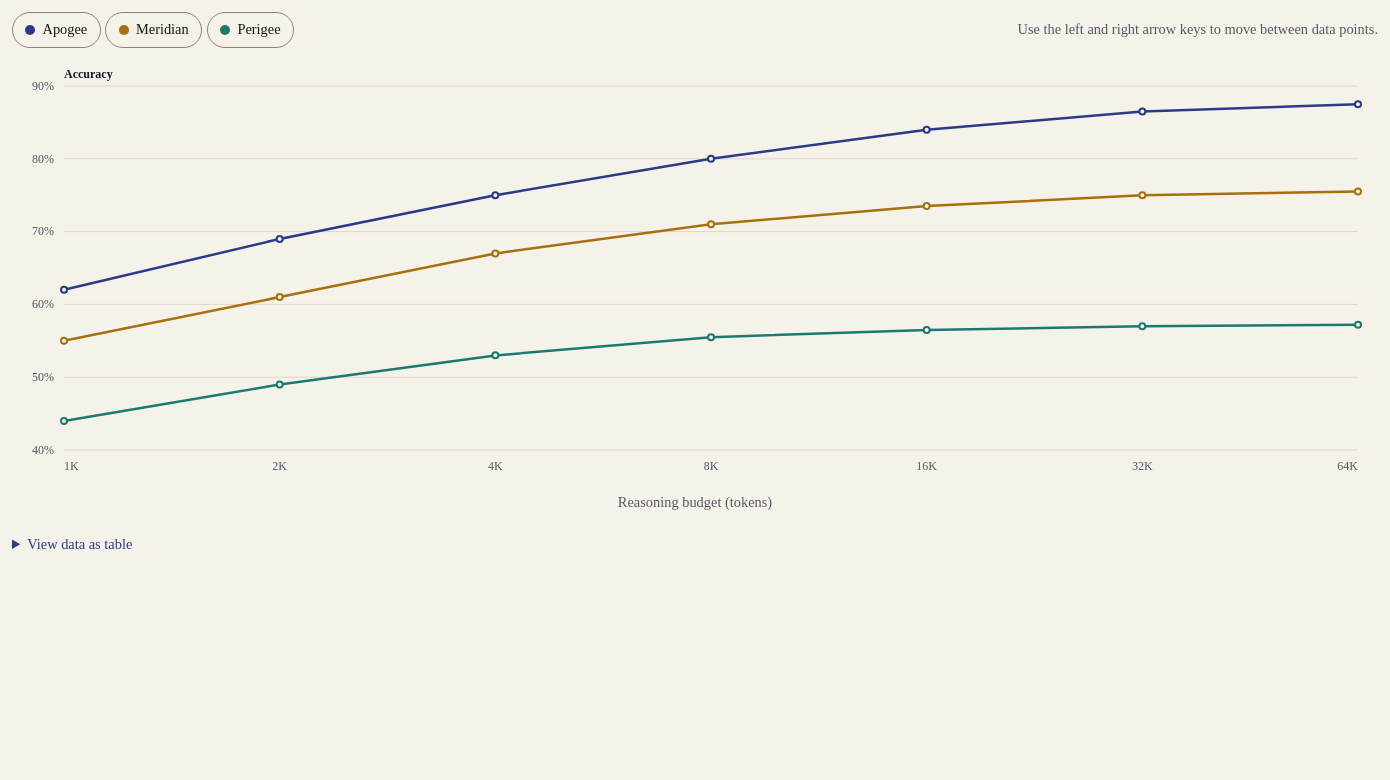
Scenario: LineChart (spec 003) › toggles series from the legend but keeps the last one visible (AC3)
This screenshot has width=1390, height=780.
Later steps or results of the test are not shown.
Click the button with aria-label "Show or hide Perigee" at coordinates (250, 30), box top-left (207, 12), bottom-right (294, 48)
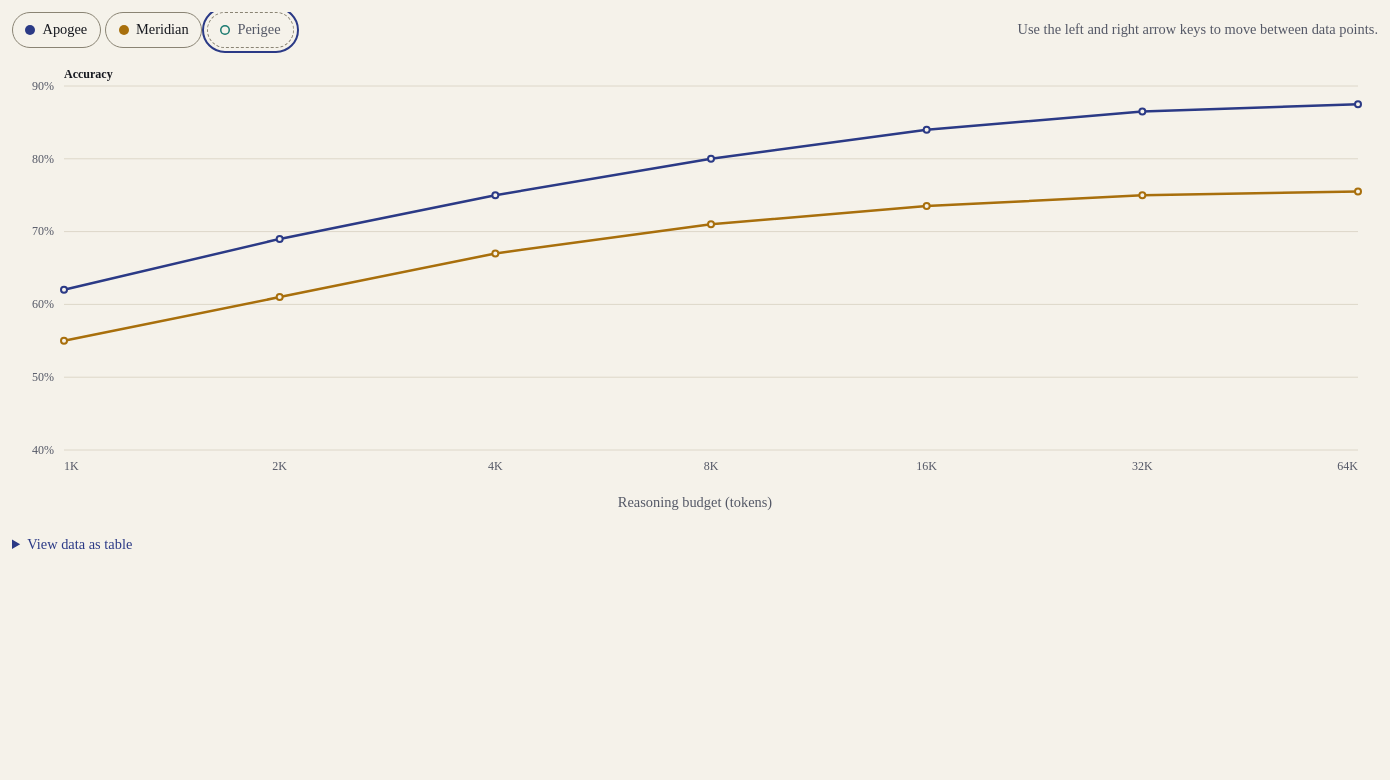
Result: the button with aria-label "Show or hide Perigee" is not pressed at top-left (207, 12), bottom-right (294, 48)
Press Tab
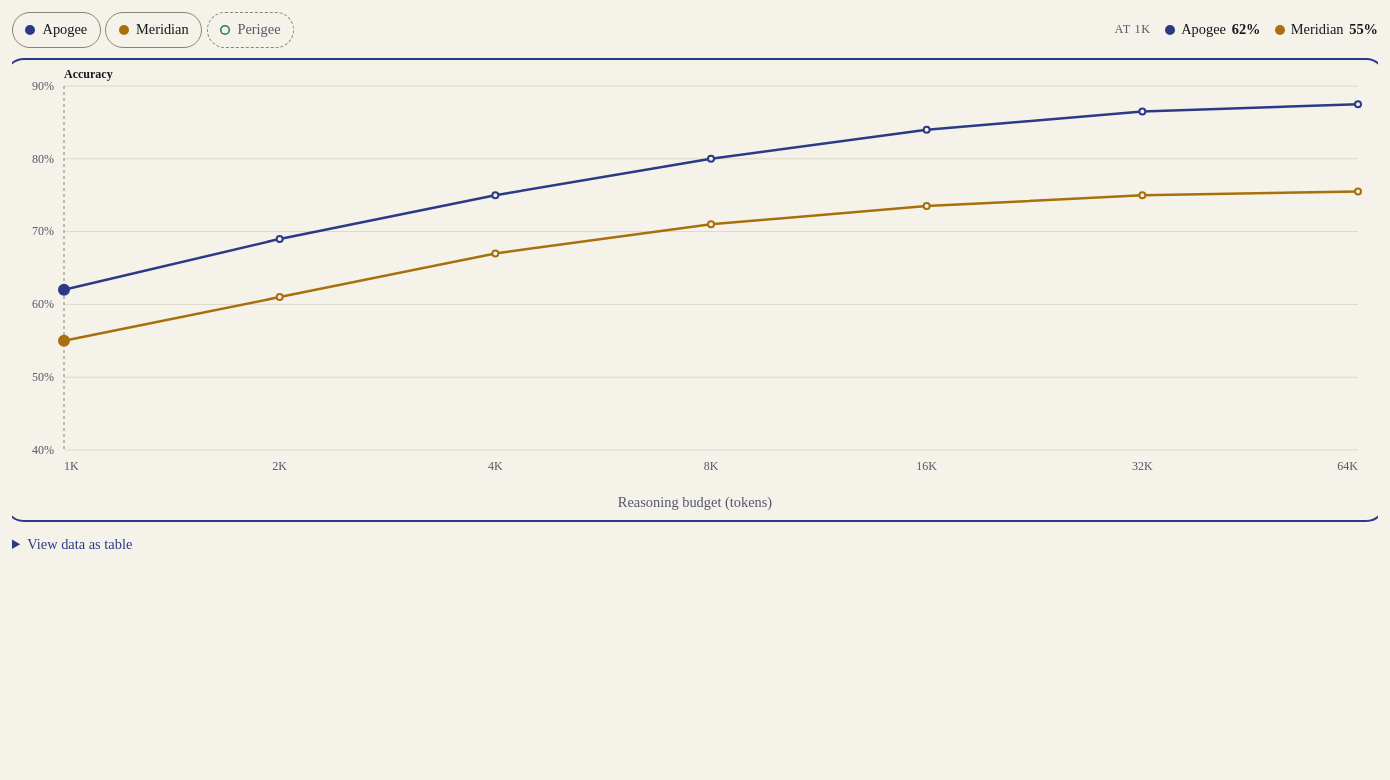
Expected: the element showing "At 1K Apogee 62% Meridian 55%" does not show "Perigee", top-left (1114, 22), bottom-right (1378, 38)
Result: the element showing "At 1K Apogee 62% Meridian 55%" is shown at top-left (1114, 22), bottom-right (1378, 38)
